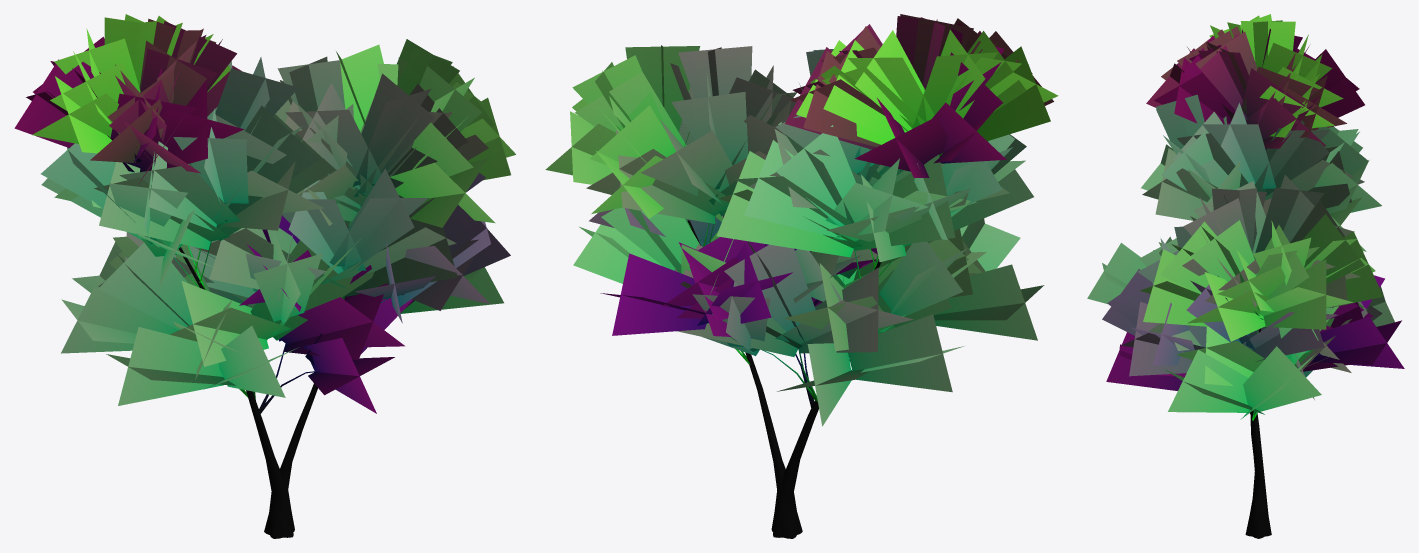
Rendered from Tree_8_8.fbx.
3 views of the same model, side by side, from view 1: azimuth 30°, elevation 25°; view 2: azimuth 150°, elevation 25°; view 3: azimuth 270°, elevation 25° (orthographic). The views are drawn at different scales.
Parts seen in each view (by area): view 1: _11; view 2: _11; view 3: _11.
Boxes of the visible parts, x1,y1,x2,y2 form: _11: (14, 14, 515, 538); _11: (545, 14, 1058, 538); _11: (1087, 14, 1404, 538).
Bounding box in the file's own units: 1423 × 1533 × 990.
